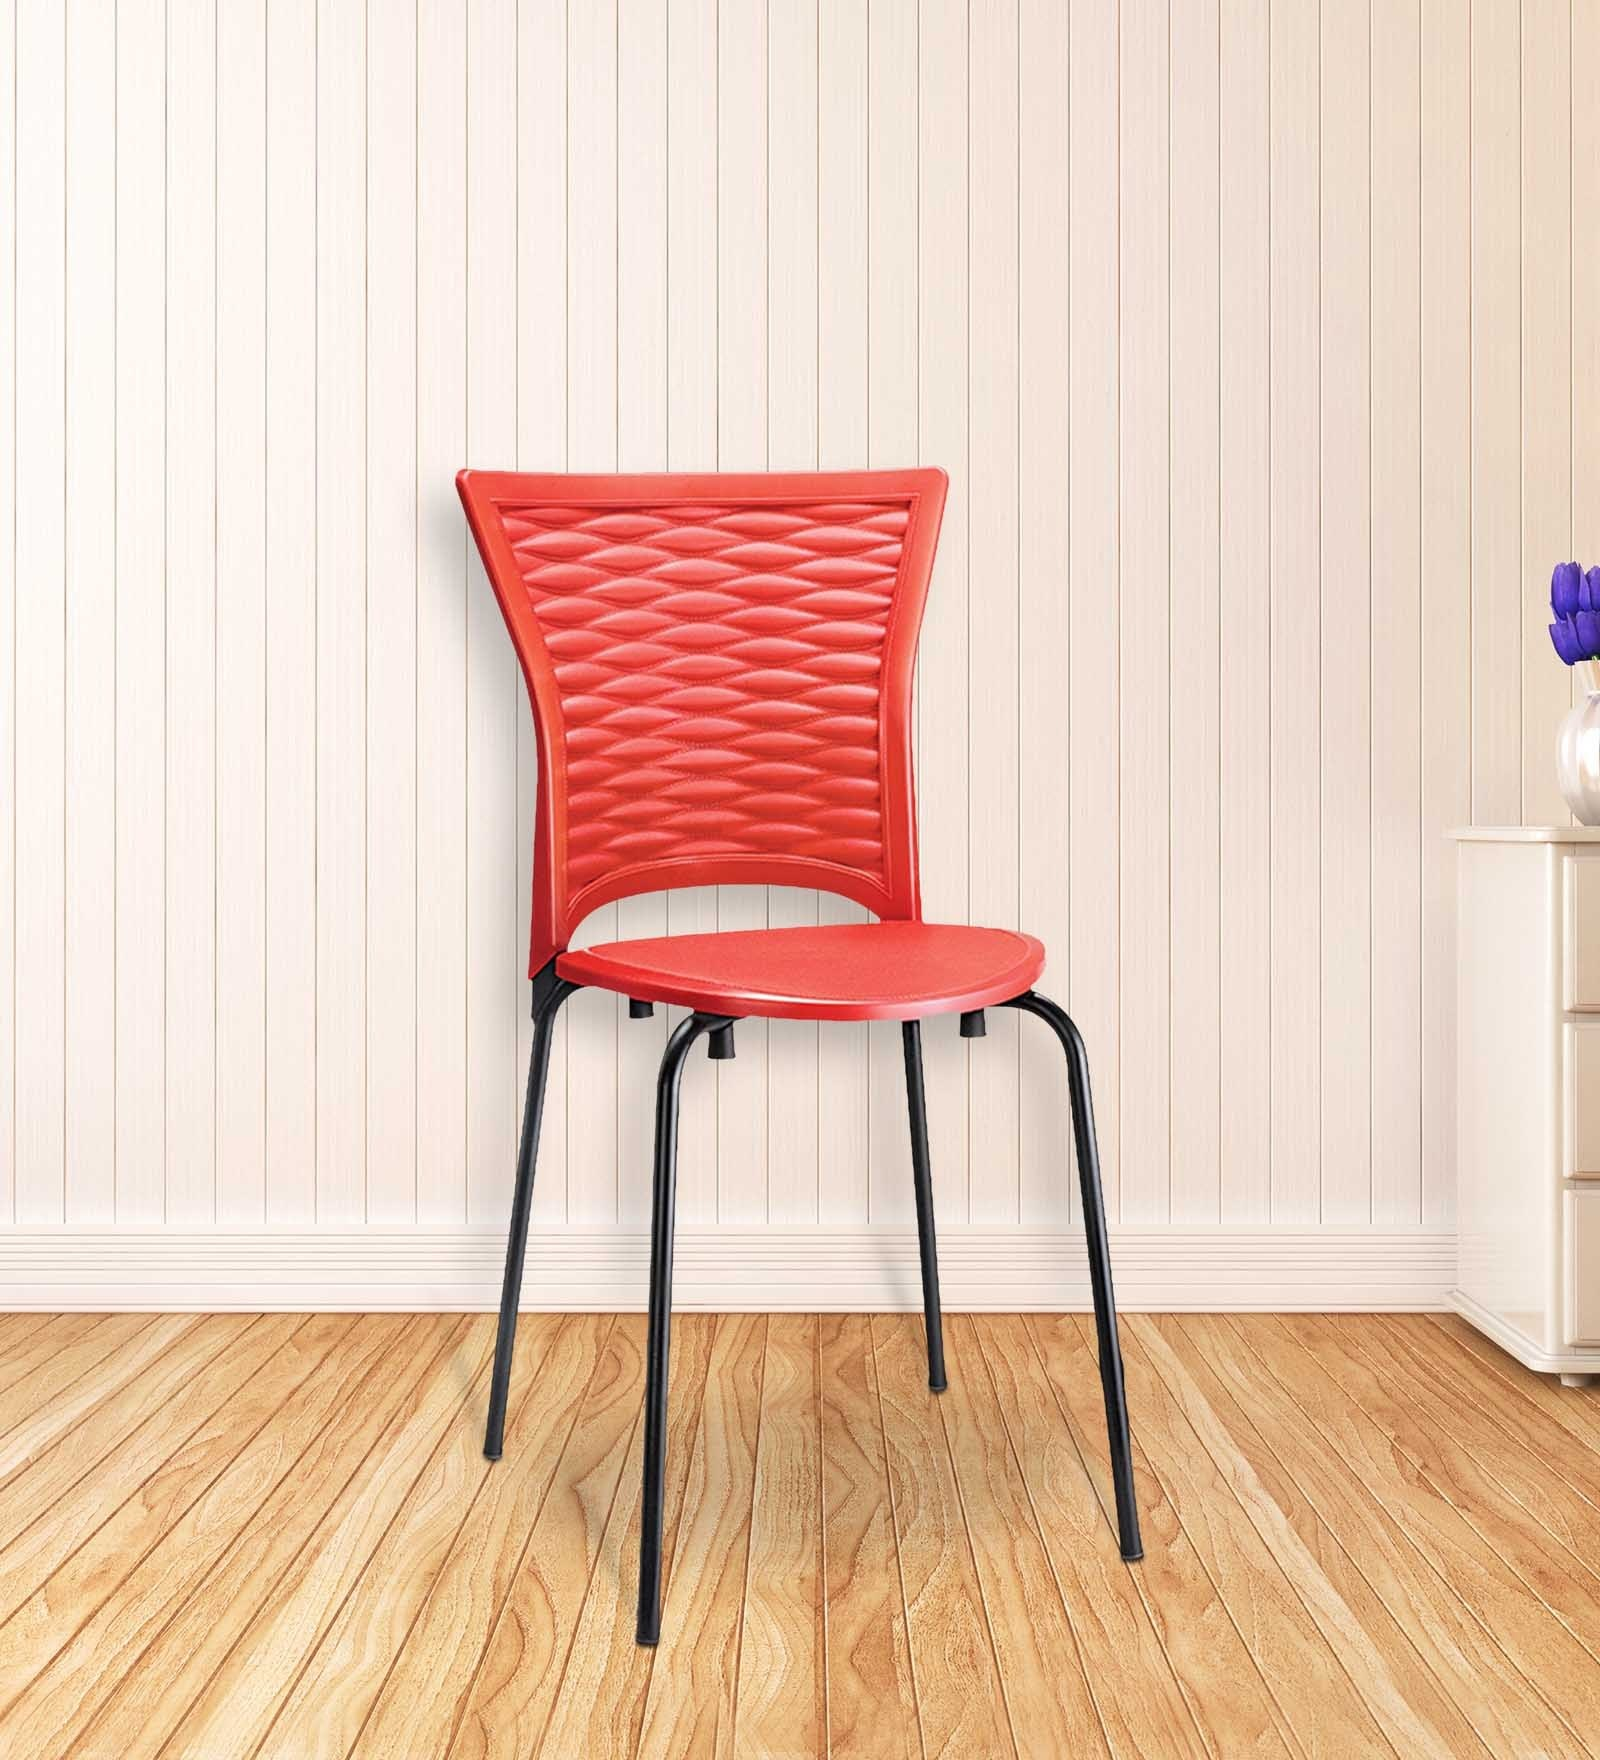Novella Chair in Red Colour by Nilkamal: (434, 460, 1169, 1648)
